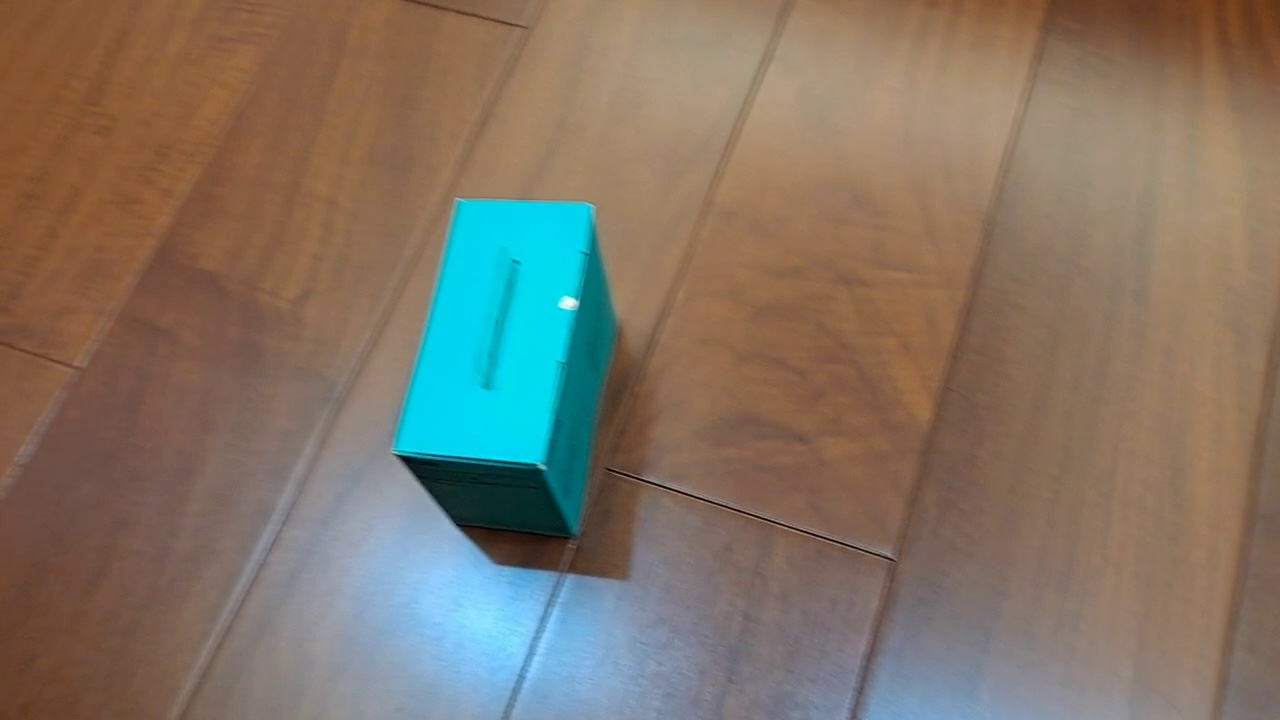webcam: (388, 195, 624, 540)
